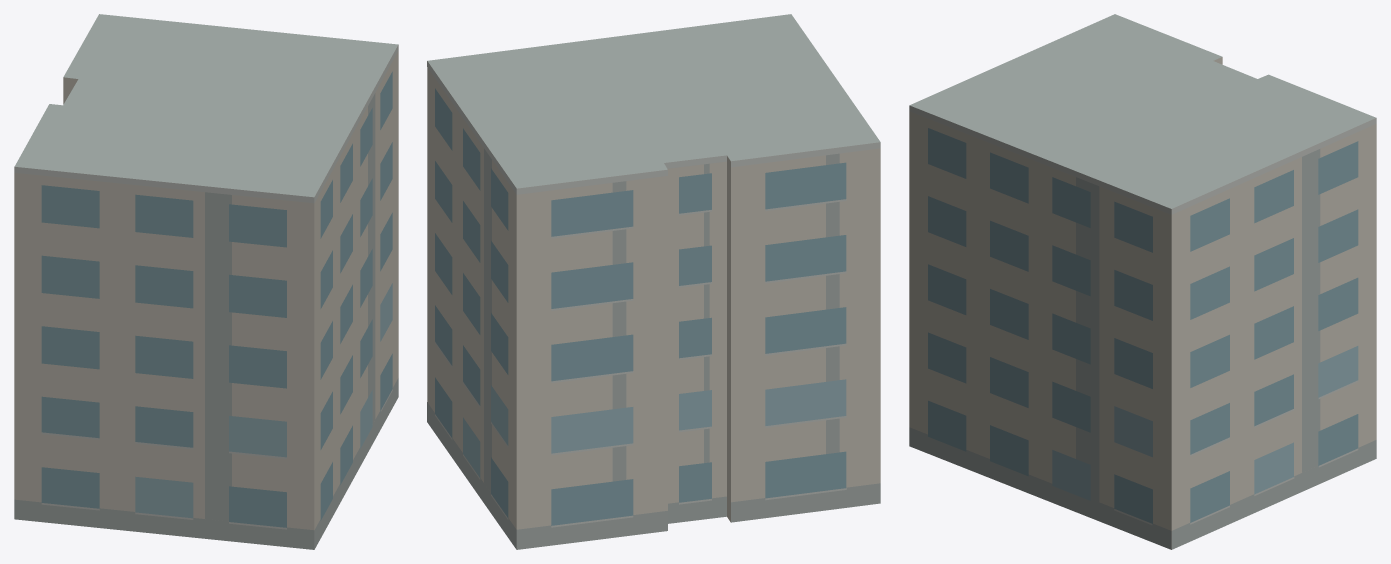
The model's file is survey-upis-32886009.glb.
3 renders of one model, left to right at view 1: azimuth 30°, elevation 25°; view 2: azimuth 150°, elevation 25°; view 3: azimuth 270°, elevation 25°, orthographic. The views are drawn at different scales.
Parts seen in each view (by area): view 1: survey-upis-32886009.tmp; view 2: survey-upis-32886009.tmp; view 3: survey-upis-32886009.tmp.
Part boxes in pixels (x1,y1,x2,y2): survey-upis-32886009.tmp: [14, 14, 398, 549]; survey-upis-32886009.tmp: [427, 14, 880, 549]; survey-upis-32886009.tmp: [909, 14, 1376, 549].
Size of the model in its own units: 17.43 by 14.2 by 17.65.
